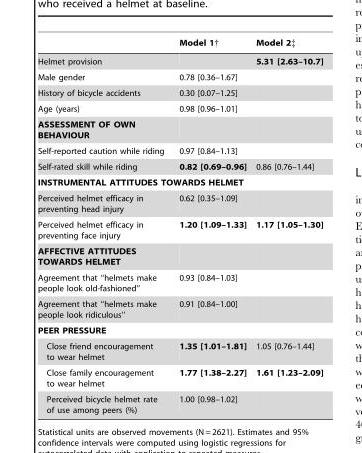table: (37, 37, 322, 414)
table column: (37, 37, 171, 414), (171, 37, 250, 414), (250, 37, 322, 414)
table column header: (37, 37, 322, 52)
table projected row header: (37, 116, 322, 142), (37, 243, 322, 269), (37, 174, 322, 190), (37, 322, 322, 338)
table row: (37, 216, 322, 243), (37, 295, 322, 322), (37, 364, 322, 391), (37, 116, 322, 142), (37, 190, 322, 216), (37, 243, 322, 269), (37, 269, 322, 295), (37, 338, 322, 364), (37, 391, 322, 414), (37, 52, 322, 69), (37, 84, 322, 100), (37, 100, 322, 116), (37, 142, 322, 158), (37, 158, 322, 174), (37, 174, 322, 190), (37, 322, 322, 338), (37, 37, 322, 52), (37, 69, 322, 84)
